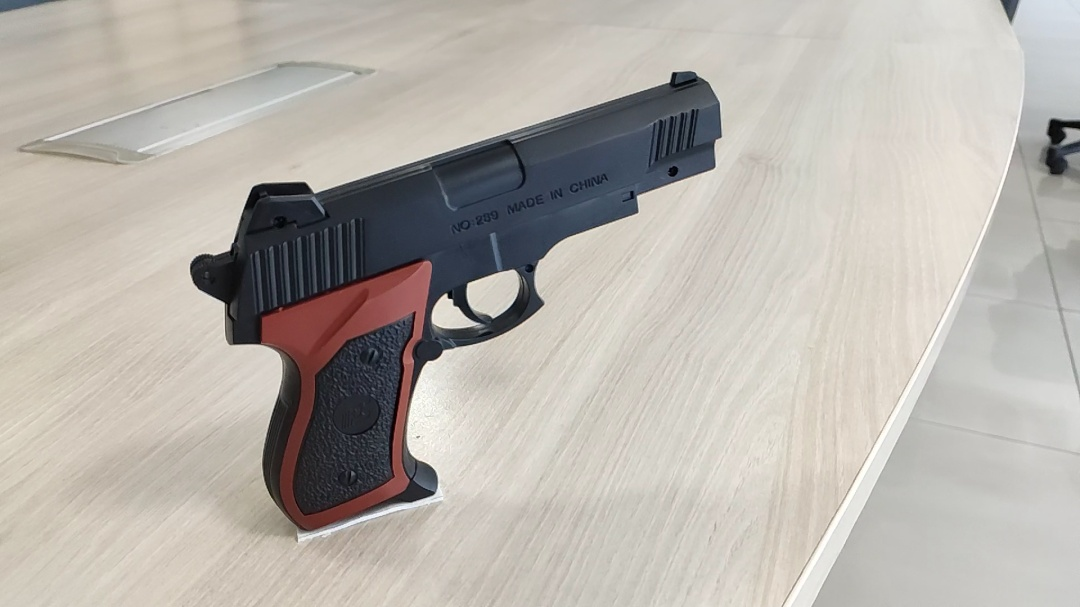gun: (188, 71, 724, 534)
